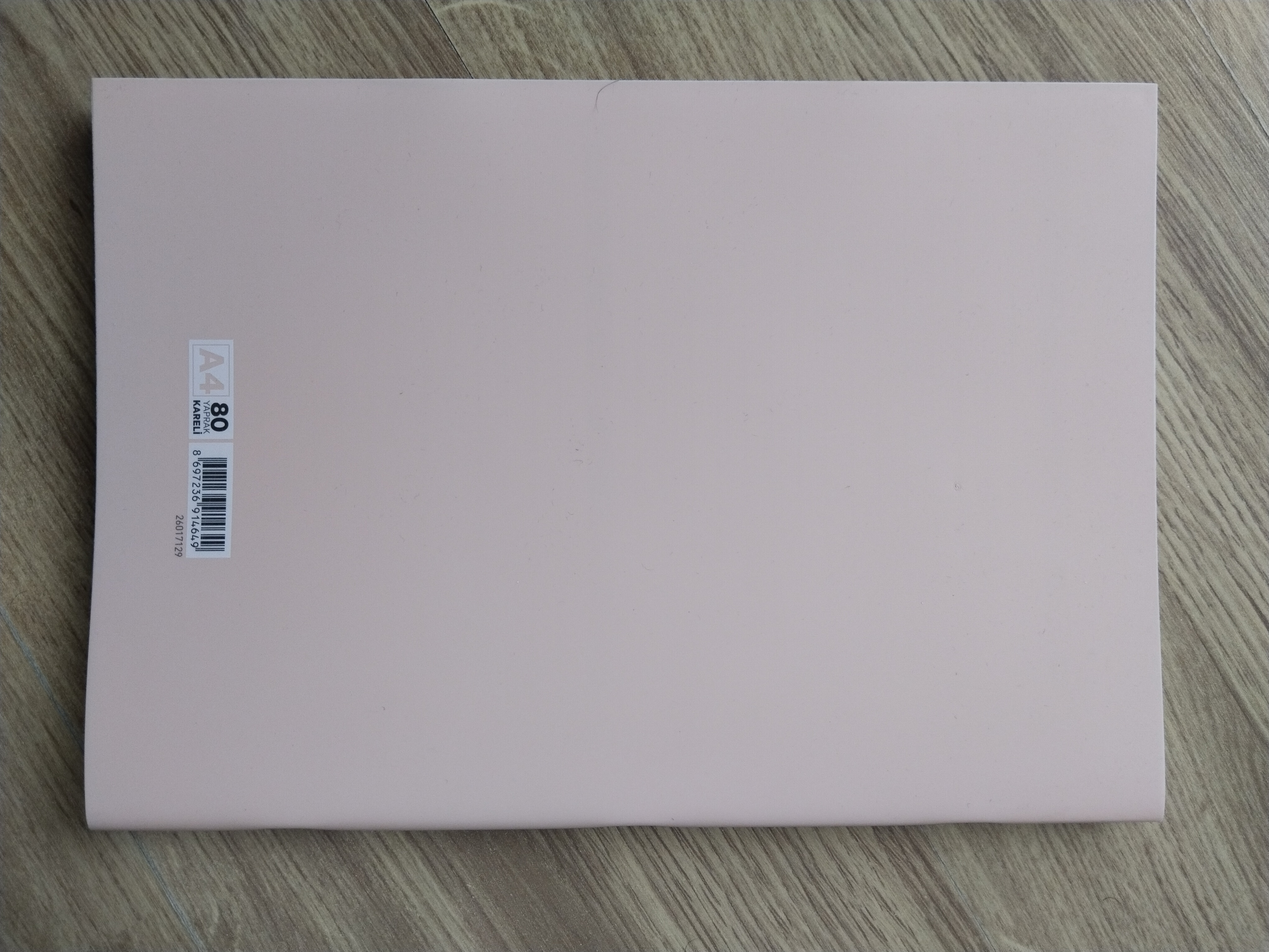80_sayfa_gipta_defter: (91, 76, 1145, 836)
